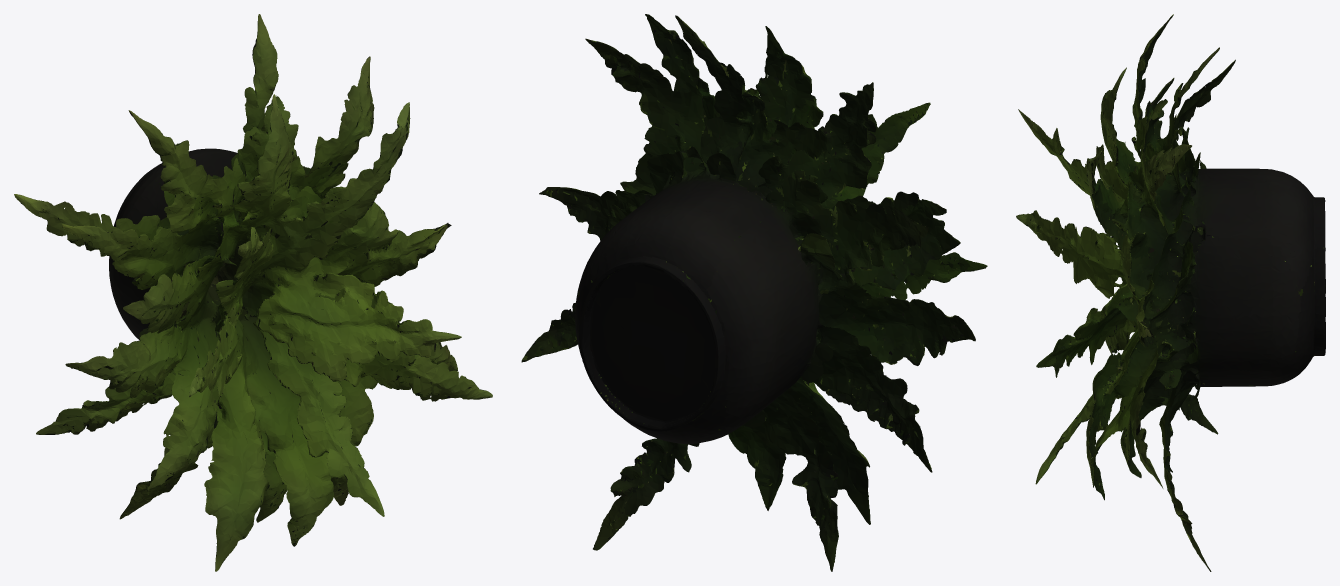
3 views of the same model, side by side, from view 1: azimuth 30°, elevation 25°; view 2: azimuth 150°, elevation 25°; view 3: azimuth 270°, elevation 25° (orthographic). The views are drawn at different scales.
Bounding box in the file's own units: 0.588 × 0.7007 × 0.4037.
Materials: 1 (1 with a texture image).
